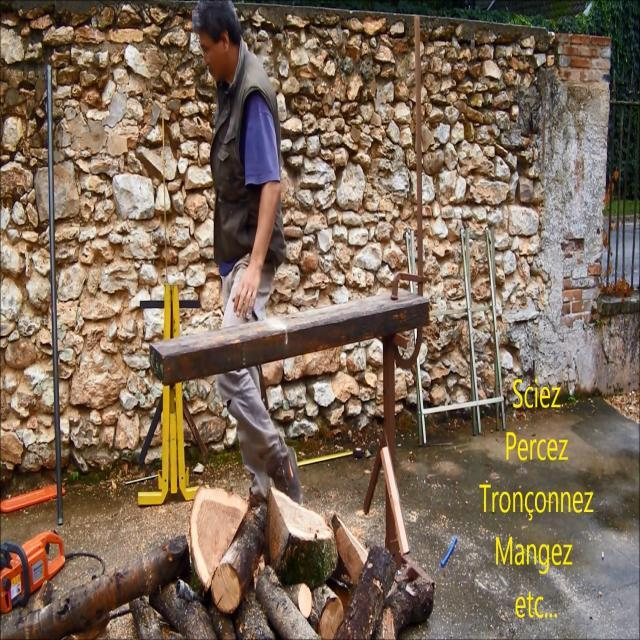Chainsaw: (0, 489, 82, 634)
